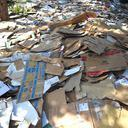cardboard: (0, 0, 127, 127), (43, 9, 96, 33), (89, 98, 127, 127), (15, 60, 42, 100), (80, 52, 127, 73), (43, 86, 67, 127), (59, 0, 127, 14), (65, 96, 93, 127), (79, 33, 127, 51), (0, 58, 22, 95), (11, 99, 39, 127), (81, 74, 112, 98), (86, 20, 127, 37), (0, 25, 28, 48), (58, 35, 86, 57), (107, 78, 127, 106), (8, 31, 38, 49), (30, 34, 63, 50), (95, 9, 127, 24), (34, 0, 61, 17), (14, 16, 48, 29), (27, 47, 60, 59), (0, 44, 26, 57), (0, 97, 11, 127), (62, 71, 79, 90), (40, 73, 62, 87), (49, 56, 79, 66), (51, 25, 85, 33), (42, 62, 64, 74), (72, 81, 86, 99), (29, 97, 43, 115), (29, 98, 43, 114), (61, 65, 82, 75), (0, 0, 9, 19), (30, 24, 46, 33), (32, 54, 50, 60), (67, 90, 72, 99)
